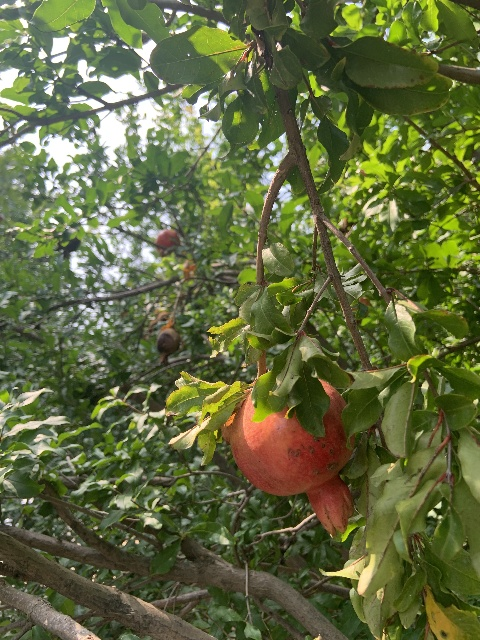ripe: (230, 378, 356, 537), (154, 229, 179, 256)
